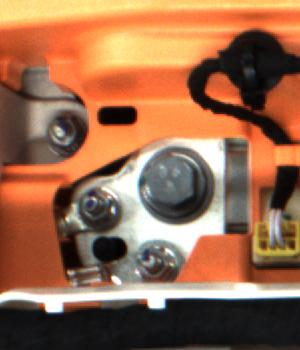nut_b: (137, 137, 228, 229)
screw_s: (41, 109, 81, 151), (75, 185, 115, 227), (135, 243, 175, 281)
